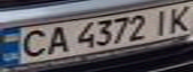2: (127, 11, 154, 42)
3: (93, 17, 115, 47)
4: (72, 20, 96, 51)
7: (109, 15, 133, 45)
A: (42, 24, 72, 55)
C: (12, 27, 51, 60)
I: (148, 7, 175, 36)
K: (163, 3, 193, 33)
